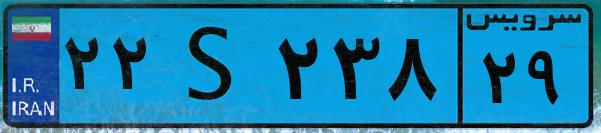2: (270, 28, 330, 110), (57, 26, 110, 100), (475, 38, 525, 113), (110, 28, 158, 98)
3: (330, 28, 385, 110)
8: (385, 28, 445, 110)
9: (525, 38, 570, 115)
S: (158, 12, 270, 120)
